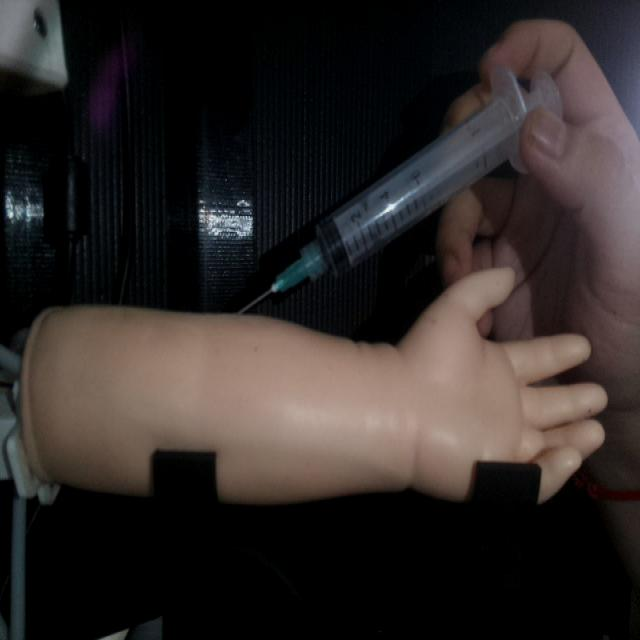Above 30 degrees: (230, 63, 564, 316)
